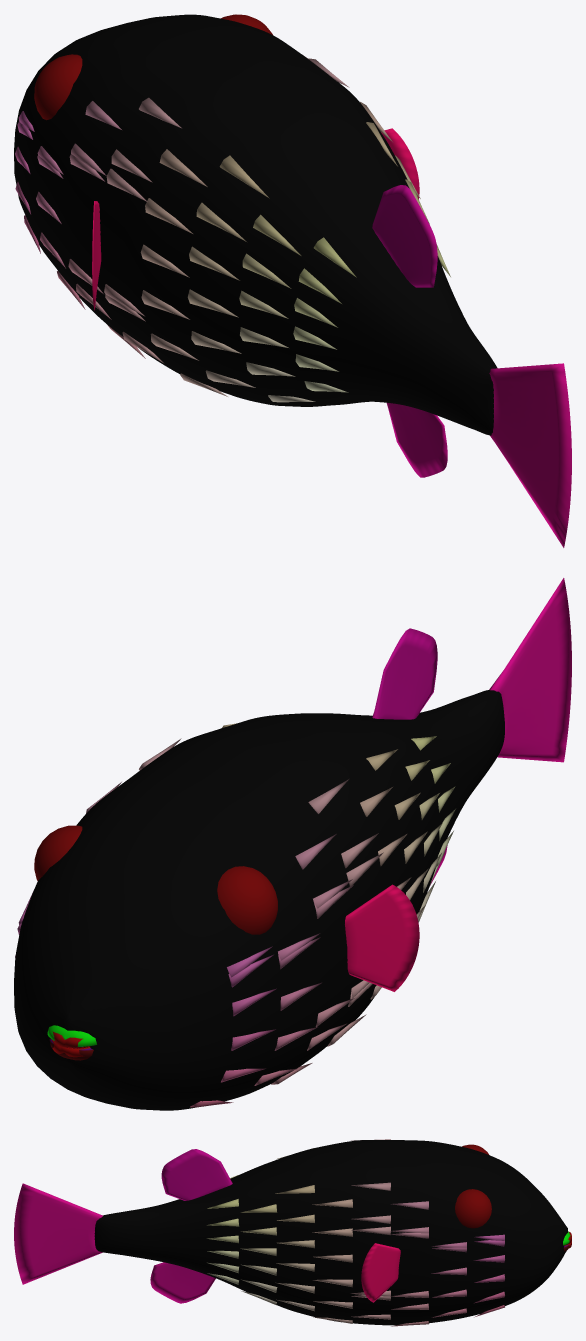
The model's file is pufferfish.glb.
3 renders of one model, top to bottom at view 1: azimuth 30°, elevation 25°; view 2: azimuth 150°, elevation 25°; view 3: azimuth 270°, elevation 25°, orthographic. The views are drawn at different scales.
Parts seen in each view (by area): view 1: pufferfish; view 2: pufferfish; view 3: pufferfish.
Part boxes in pixels (box(x1,y1,x2,y2)): pufferfish: box(14, 14, 571, 547); pufferfish: box(14, 578, 571, 1110); pufferfish: box(14, 1139, 571, 1326).
Size of the model in its own units: 0.1125 by 0.0994 by 0.3023.
